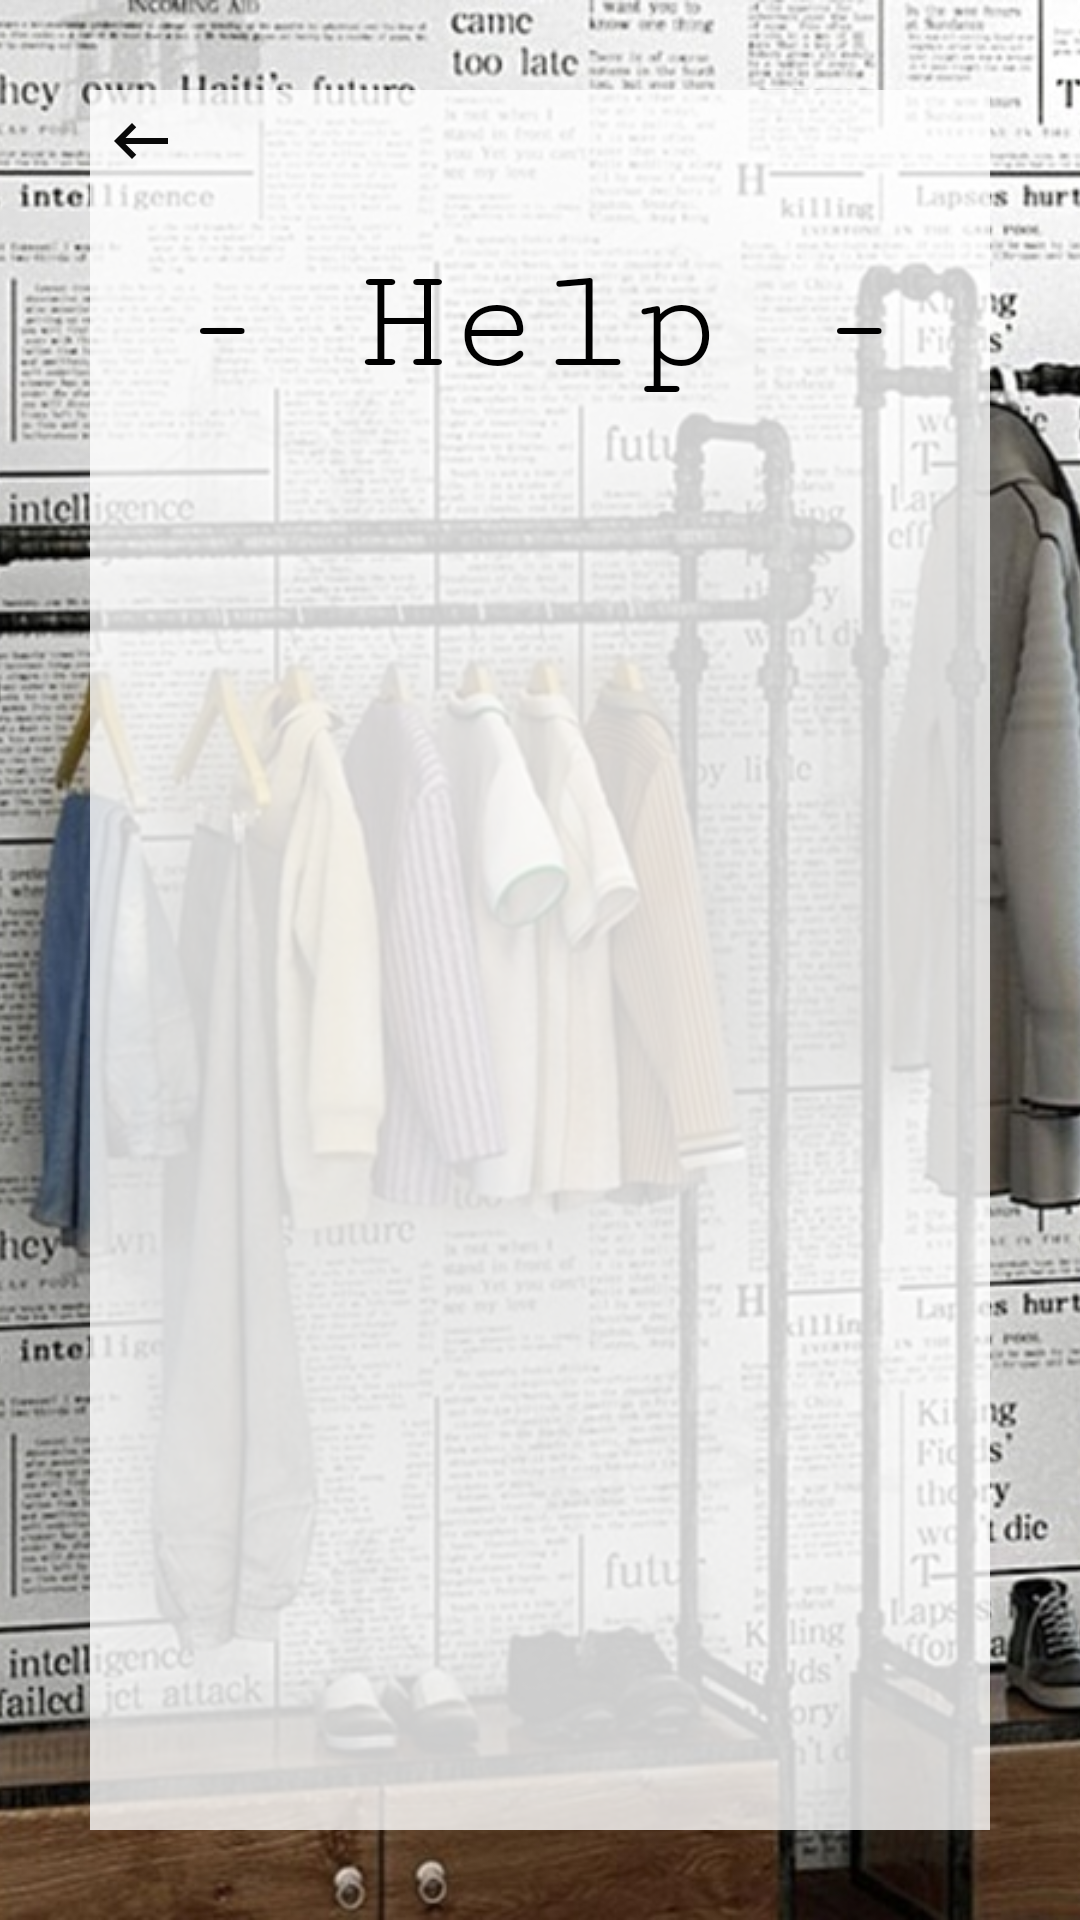

Where icons sit on this 1080px x 1920px app screen, as (x1, y1, x2, y2):
back arrow: (90, 90, 192, 192)
